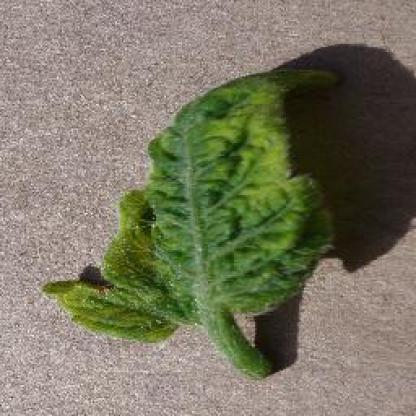bad leaf: (51, 185, 170, 330), (237, 87, 303, 212)
